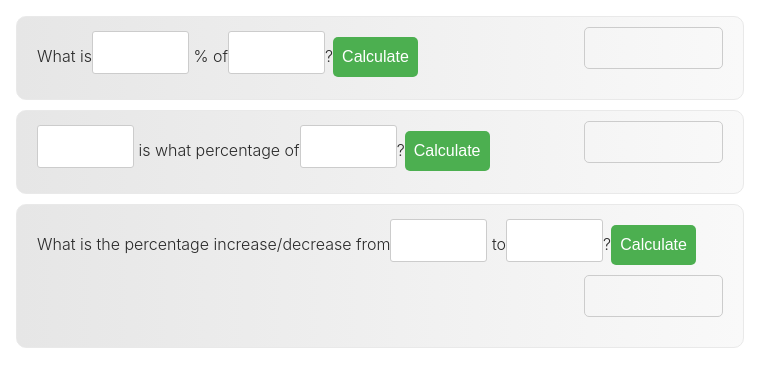
calculate1 returns correct result
In the 1st field: [140, 52] box [92,31,189,74], type "25"
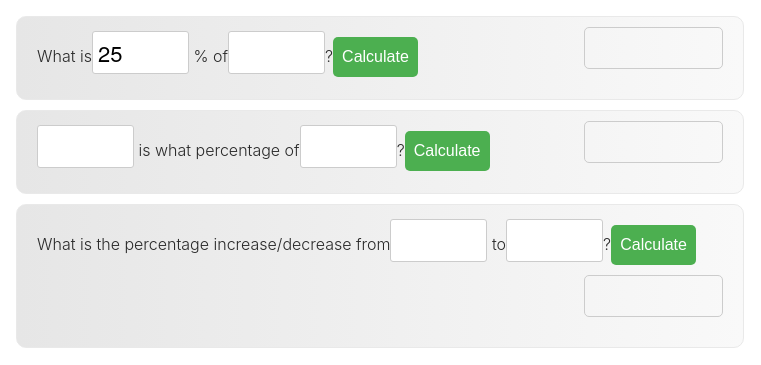
In the 2nd field: [276, 52] box [228,31,325,74], type "500"
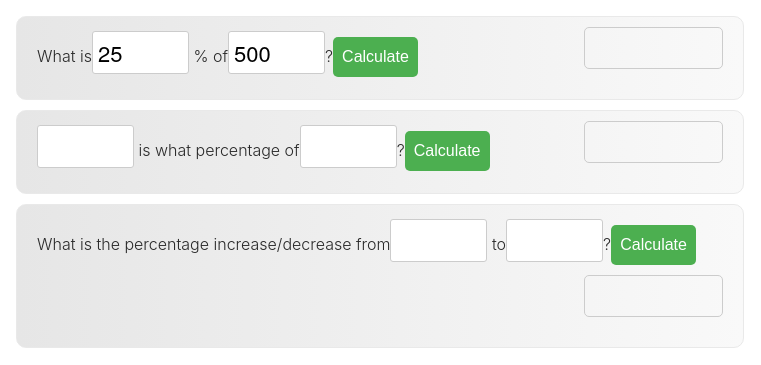
Click the button with test id "calculate1-button": [376, 57] box [333,37,418,77]
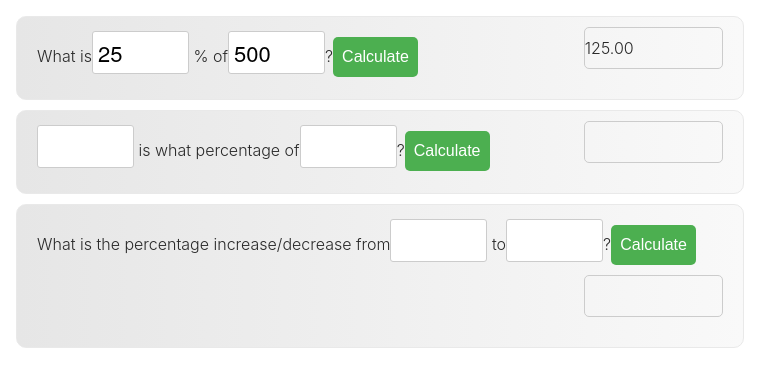
Expected: the text "125.00" is shown, [584,27,723,69]
